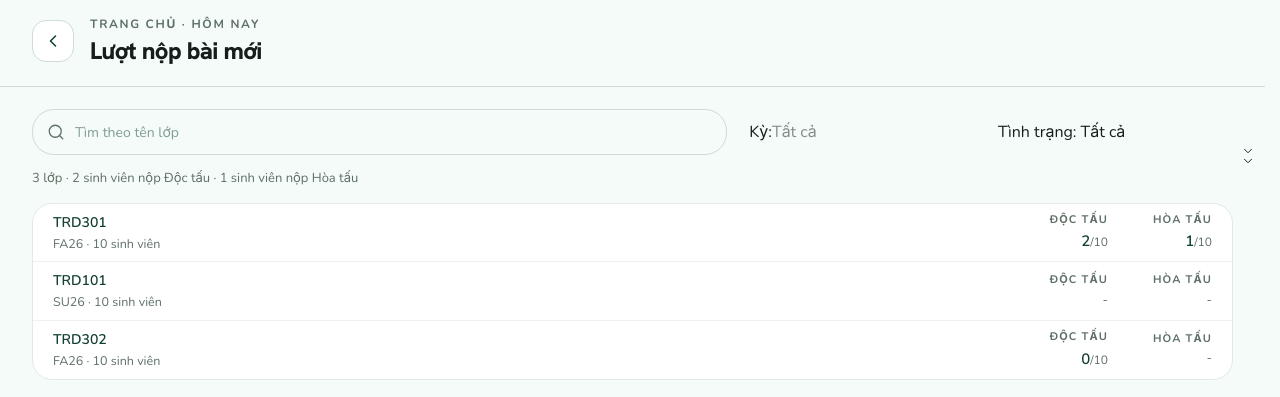
Test: TodaySubmissionsPage › lists every running class, most submitters first, with search and cohort / activity filters
The image size is (1280, 397).
Expected: the text "TRD301" is shown, [53,212,107,232]
Expected: the element showing "2/10" is shown, [1081,230,1108,253]
Select "Tình trạng: Chưa có lượt nộp" in the dropdown named "Tình trạng" at (1110, 132), box [986,110,1233,154]
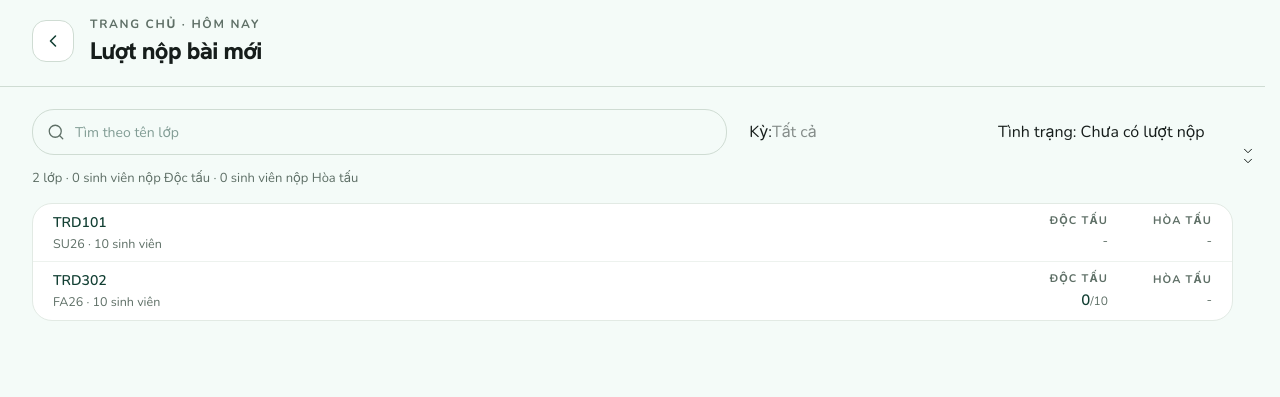
Type "su" into the dropdown named "Kỳ" at (874, 132), box [772,120,976,144]
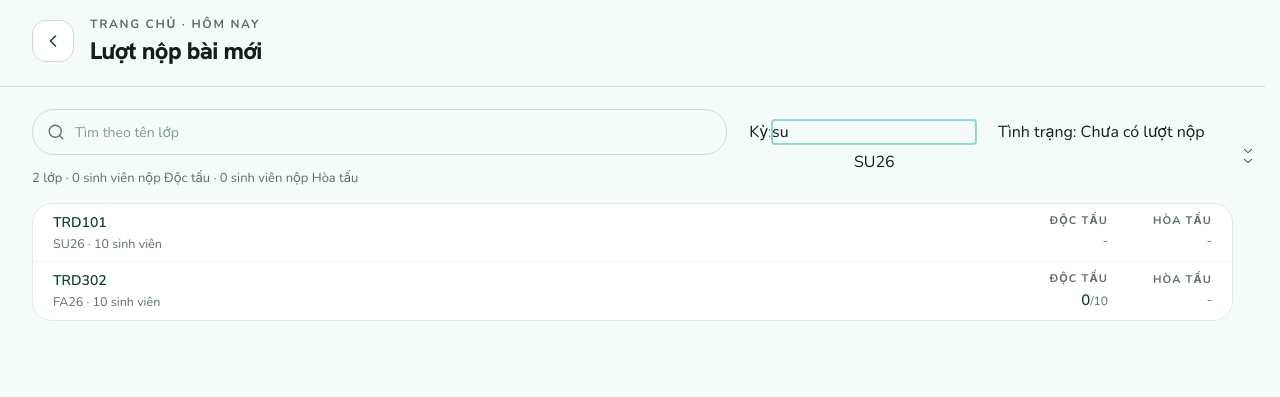
Expected: the options read "SU26", in this order
Click the option "SU26" at (874, 162), box [854,150,895,174]
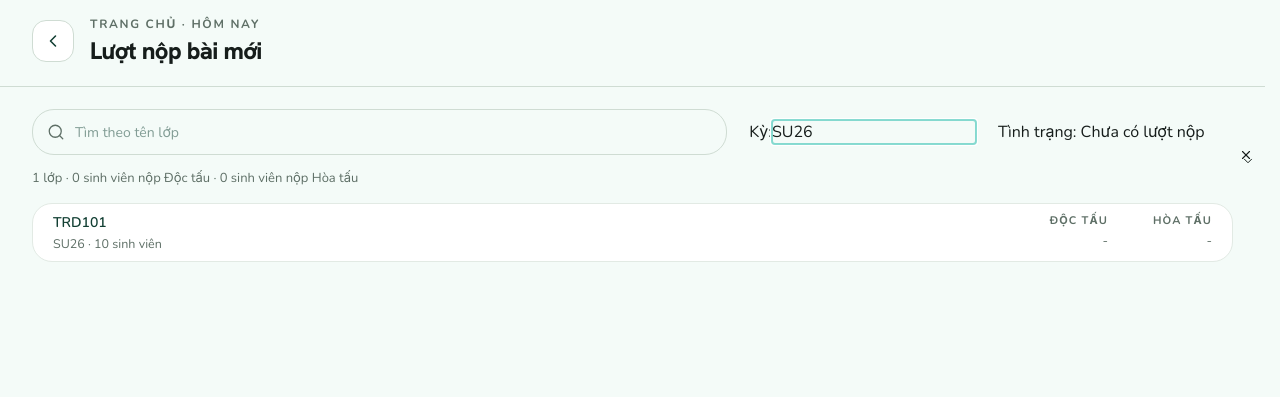
Type "302" into the search field labelled "Tìm theo tên lớp" at (394, 132), box [75,110,712,154]
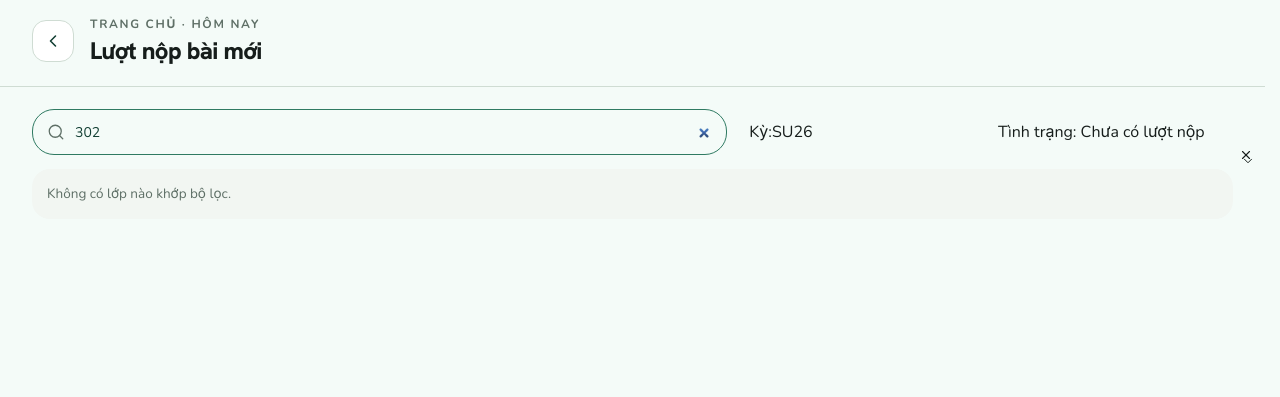
Expected: the text "Không có lớp nào khớp bộ lọc." is shown, [32,169,1233,219]
